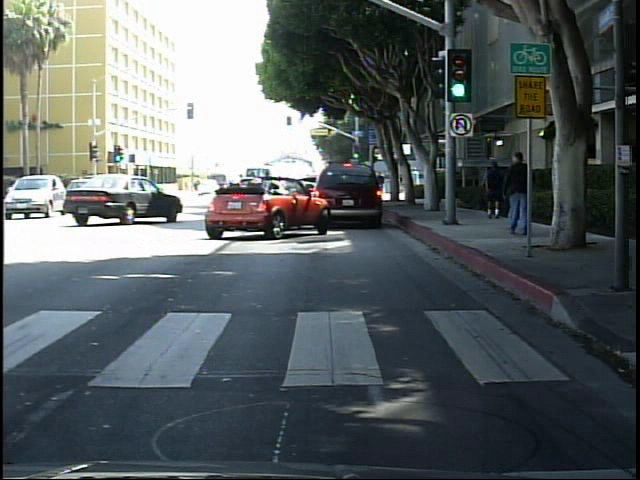person: (490, 134, 547, 253), (484, 157, 508, 222), (409, 165, 425, 200)
